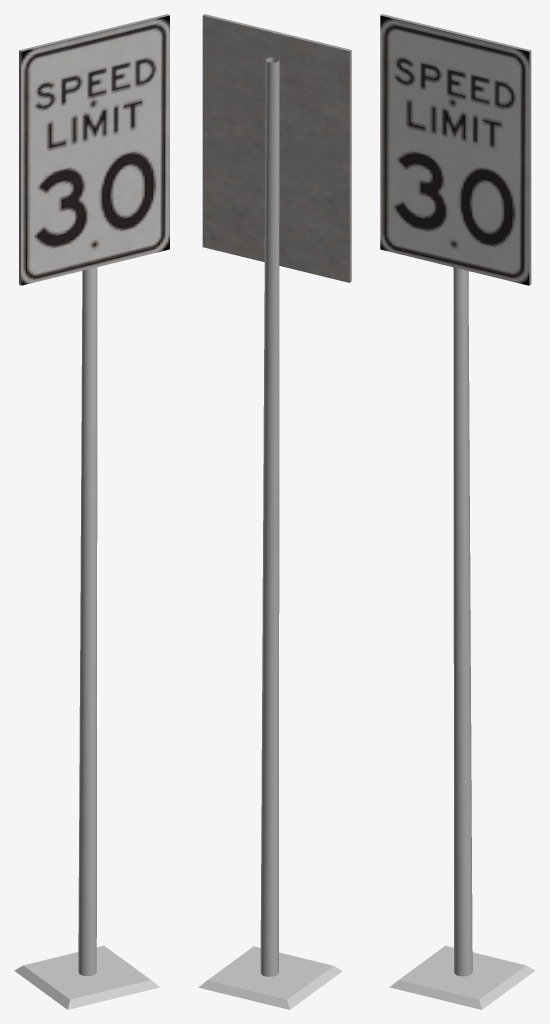
Rendered from D_road_s_sl30.FBX.
3 renders of one model, left to right at view 1: azimuth 30°, elevation 25°; view 2: azimuth 150°, elevation 25°; view 3: azimuth 330°, elevation 25°, orthographic.
Visible parts, largest first — view 1: road_s_sl30; view 2: road_s_sl30; view 3: road_s_sl30.
Boxes of the visible parts, box(x1,y1,x2,y2) form: road_s_sl30: box(14, 14, 169, 1009); road_s_sl30: box(198, 14, 351, 1009); road_s_sl30: box(380, 14, 535, 1009).
Size of the model in its own units: 1.66 by 1.04 by 10.17.
